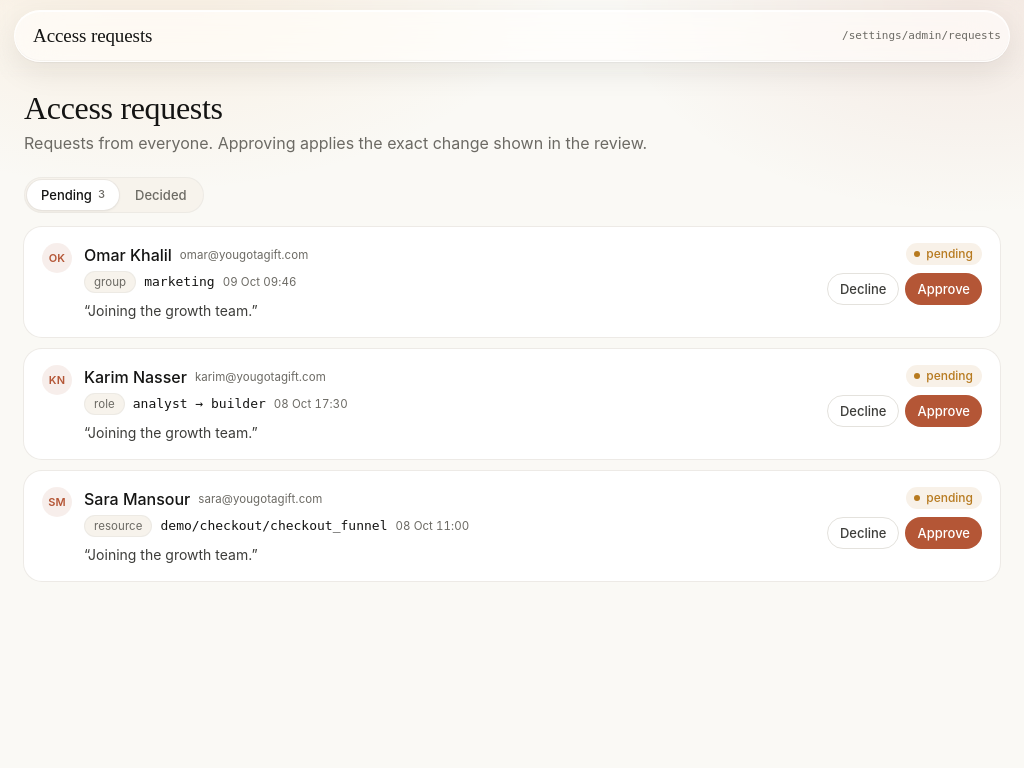
it: AdminRequestsPage › a declined request shows its outcome in place
Click the button "Decline" in the row of "09 Oct 09:46". click: (863, 289)
box: 827,273 -> 899,305
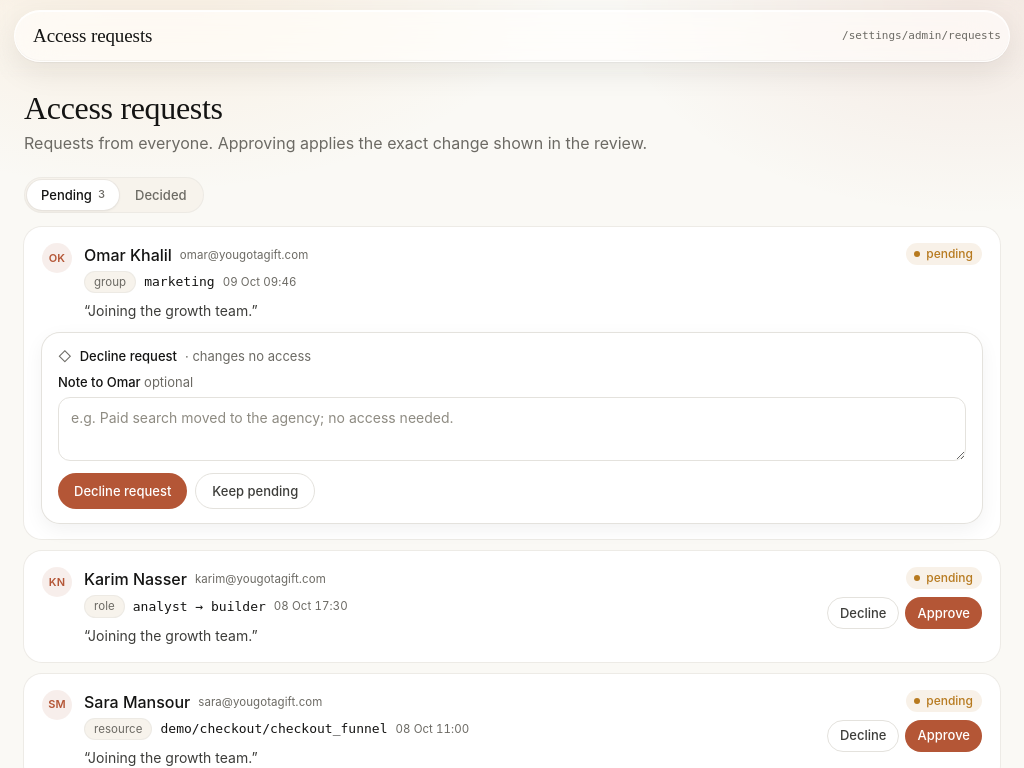
Click the button "Decline request". click: (123, 492)
box: 58,474 -> 187,510
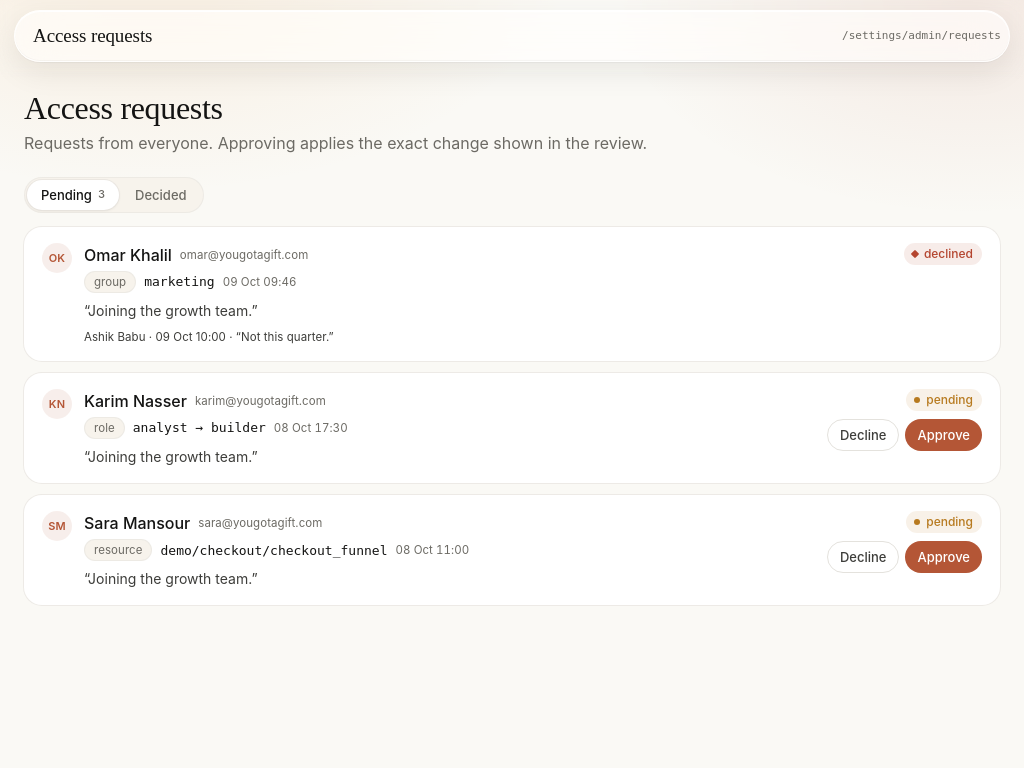
Result: the text "declined" is shown at 904,243 -> 982,265
Result: the text "Ashik Babu · 09 Oct 10:00 · “Not this quarter.”" is shown at 84,330 -> 334,344
Result: the button "Decline request" is gone
